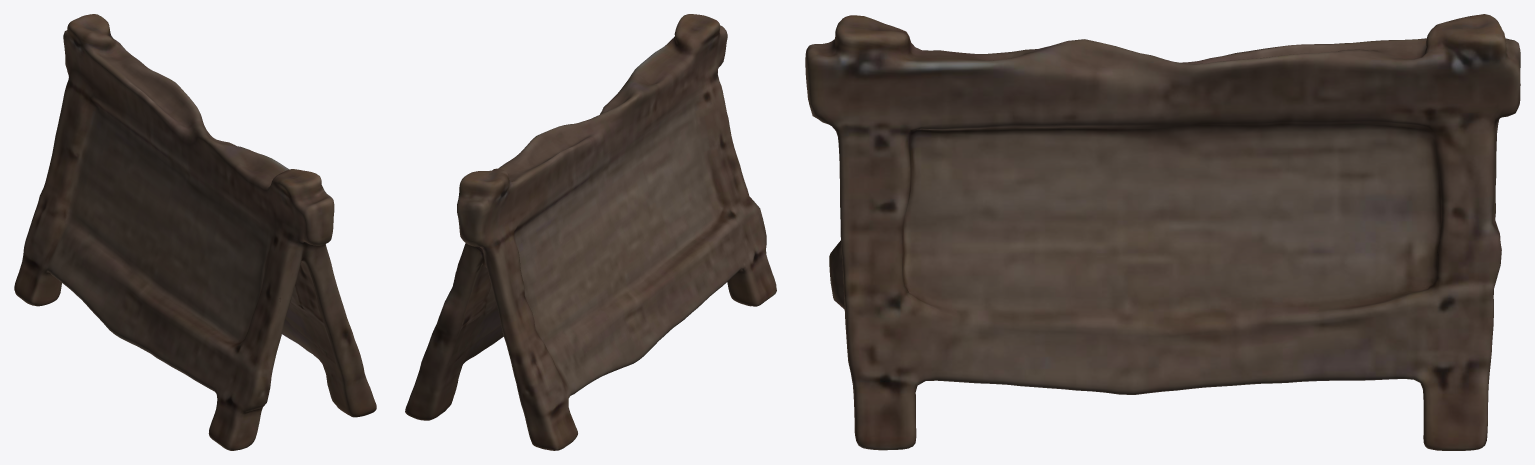
The model's file is 018535d2508e_low_poly_wooden_emp.fbx.
3 views of the same model, side by side, from view 1: azimuth 30°, elevation 25°; view 2: azimuth 150°, elevation 25°; view 3: azimuth 270°, elevation 25° (orthographic). The views are drawn at different scales.
Parts seen in each view (by area): view 1: mesh; view 2: mesh; view 3: mesh.
Boxes of the visible parts, x1=… form: mesh: x1=14, y1=14, x2=376, y2=450; mesh: x1=405, y1=14, x2=776, y2=450; mesh: x1=805, y1=14, x2=1520, y2=450.
Size of the model in its own units: 36.64 by 57.67 by 99.94.
